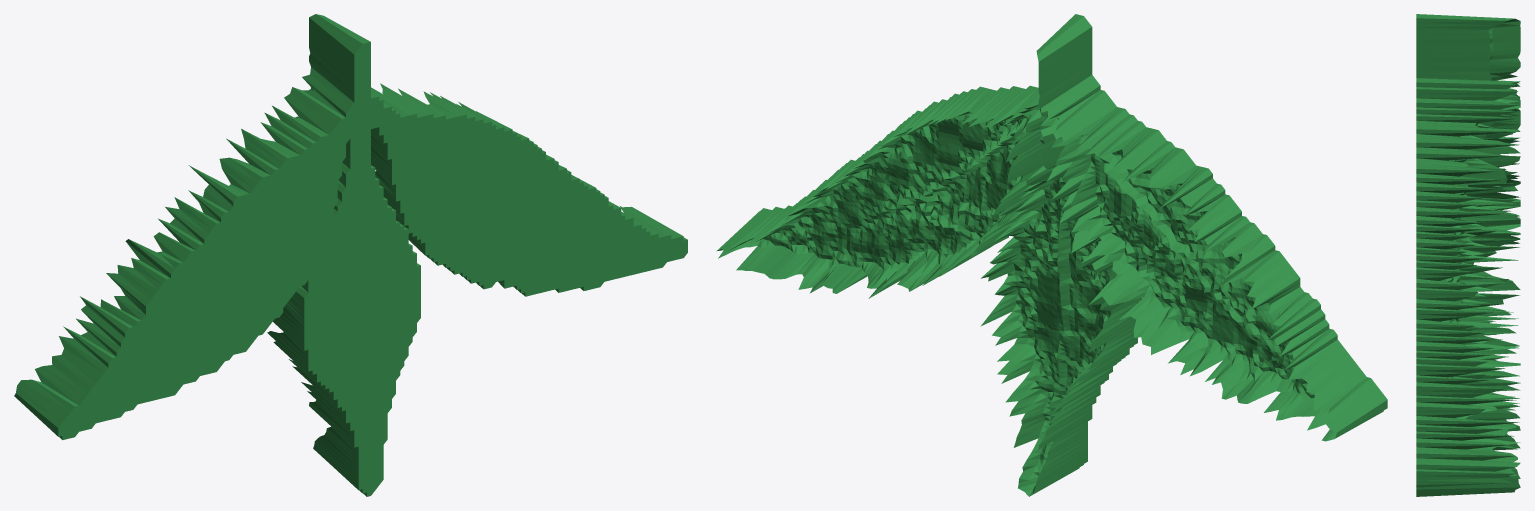
Rendered from Neem.glb.
3 renders of one model, left to right at view 1: azimuth 30°, elevation 25°; view 2: azimuth 150°, elevation 25°; view 3: azimuth 270°, elevation 25°, orthographic. The views are drawn at different scales.
Parts seen in each view (by area): view 1: 1; view 2: 1; view 3: 1.
Part boxes in pixels (x1,y1,x2,y2): 1: (14,14,687,496); 1: (716,14,1387,496); 1: (1416,14,1520,496).
Size of the model in its own units: 1.44 by 0.9905 by 0.1961.
